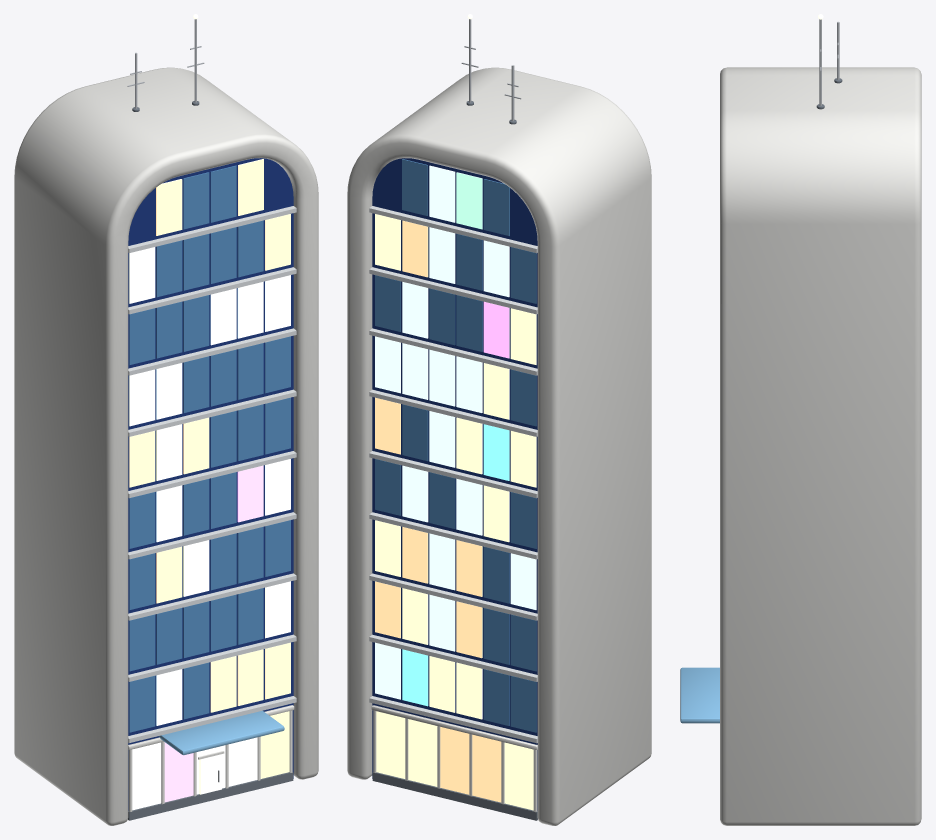
Rendered from escritorio_moldura_oval.glb.
The picture shows the model from 3 angles, left to right: view 1: azimuth 30°, elevation 25°; view 2: azimuth 150°, elevation 25°; view 3: azimuth 270°, elevation 25°; orthographic projection. The views are drawn at different scales.
Visible parts, largest first — view 1: escritorio_moldura_oval; view 2: escritorio_moldura_oval; view 3: escritorio_moldura_oval.
Boxes of the visible parts, x1,y1,x2,y2 form: escritorio_moldura_oval: (14, 14, 318, 825); escritorio_moldura_oval: (347, 14, 651, 825); escritorio_moldura_oval: (680, 14, 921, 825).
Bounding box in the file's own units: 11.6 × 39.01 × 11.
Materials: 9 (1 with a texture image).
